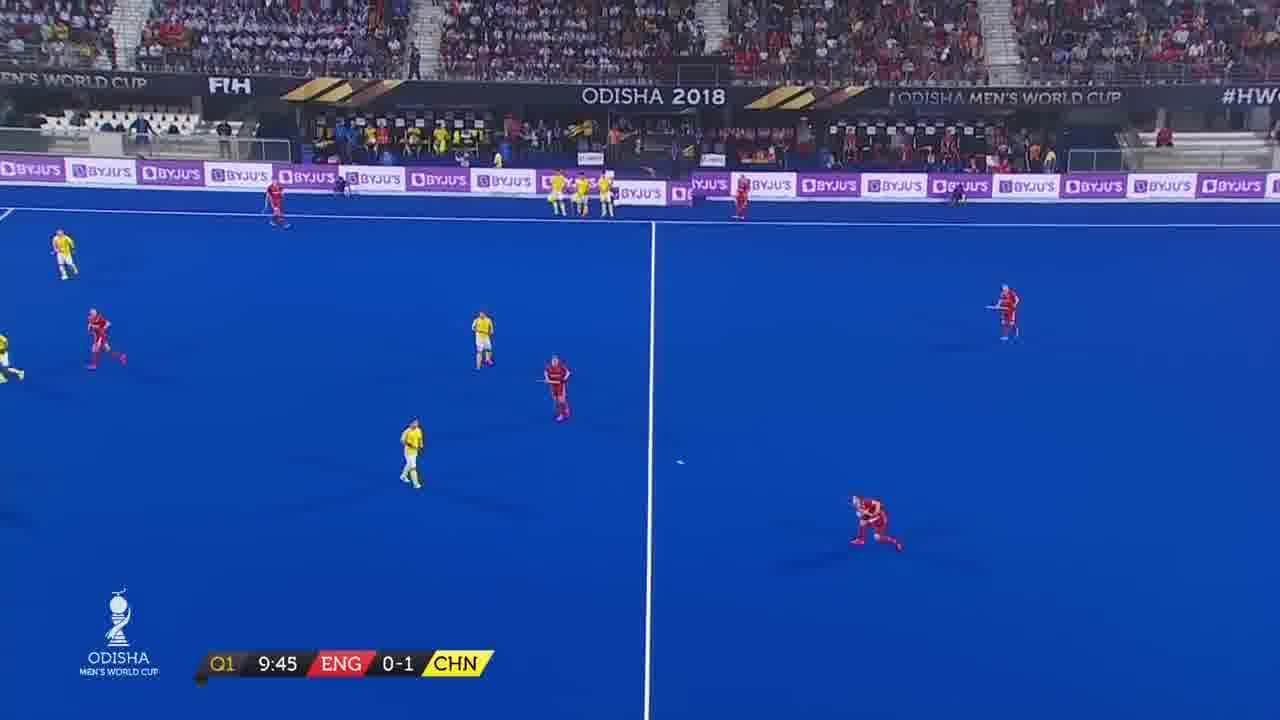ball: (677, 457, 687, 468)
